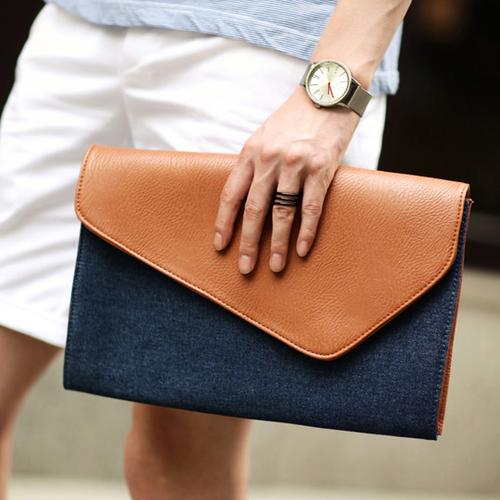no-phone: (199, 90, 354, 312)
